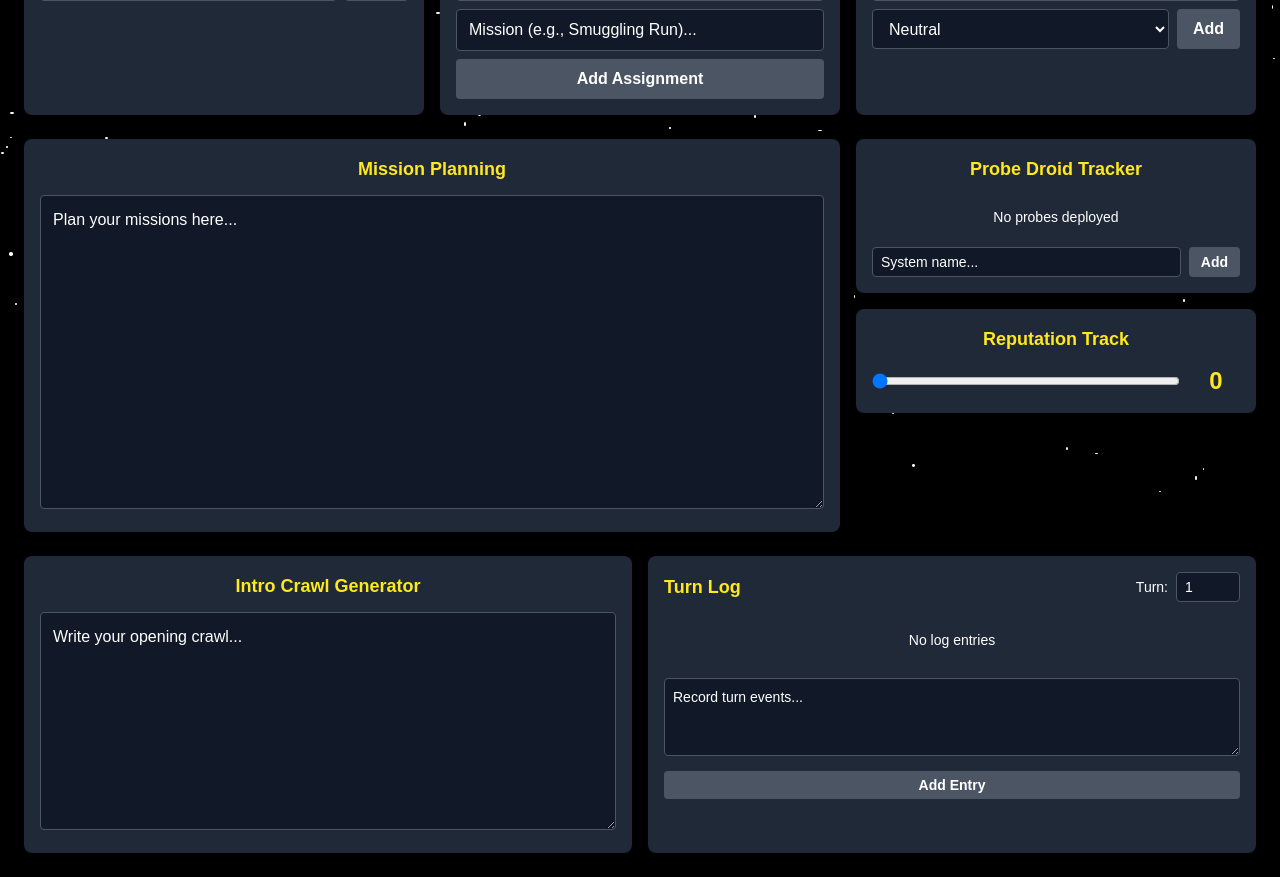
Test case: Star Wars Rebellion Dashboard › Turn Log Journal › adds a turn log entry
(page scrolled)
Step 1. Type "Rebels evacuated Echo Base" into the text box with placeholder "Record turn events..." → (952, 717), box 664,678 -> 1240,756
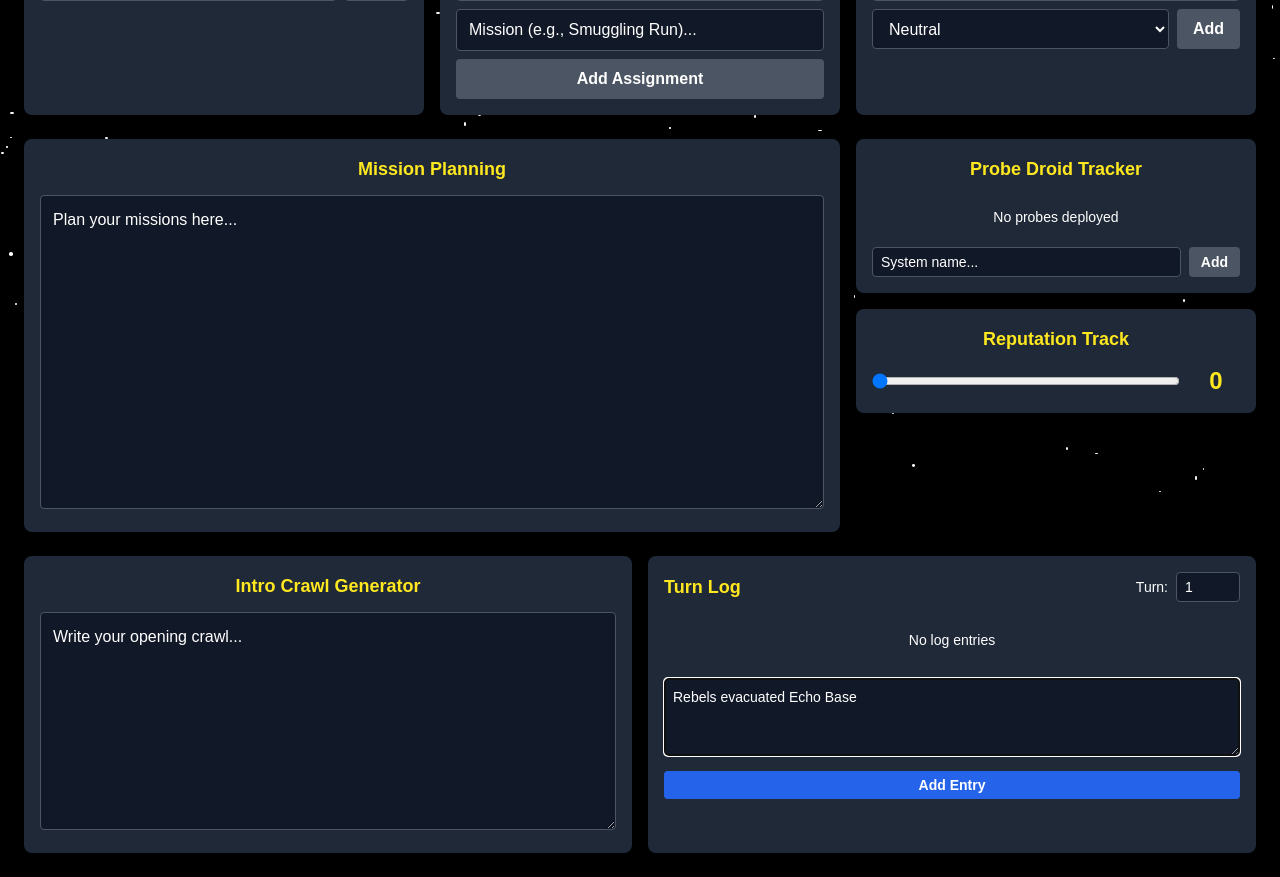
Step 2. Click the button "Add Entry" → (952, 785), box 664,771 -> 1240,799
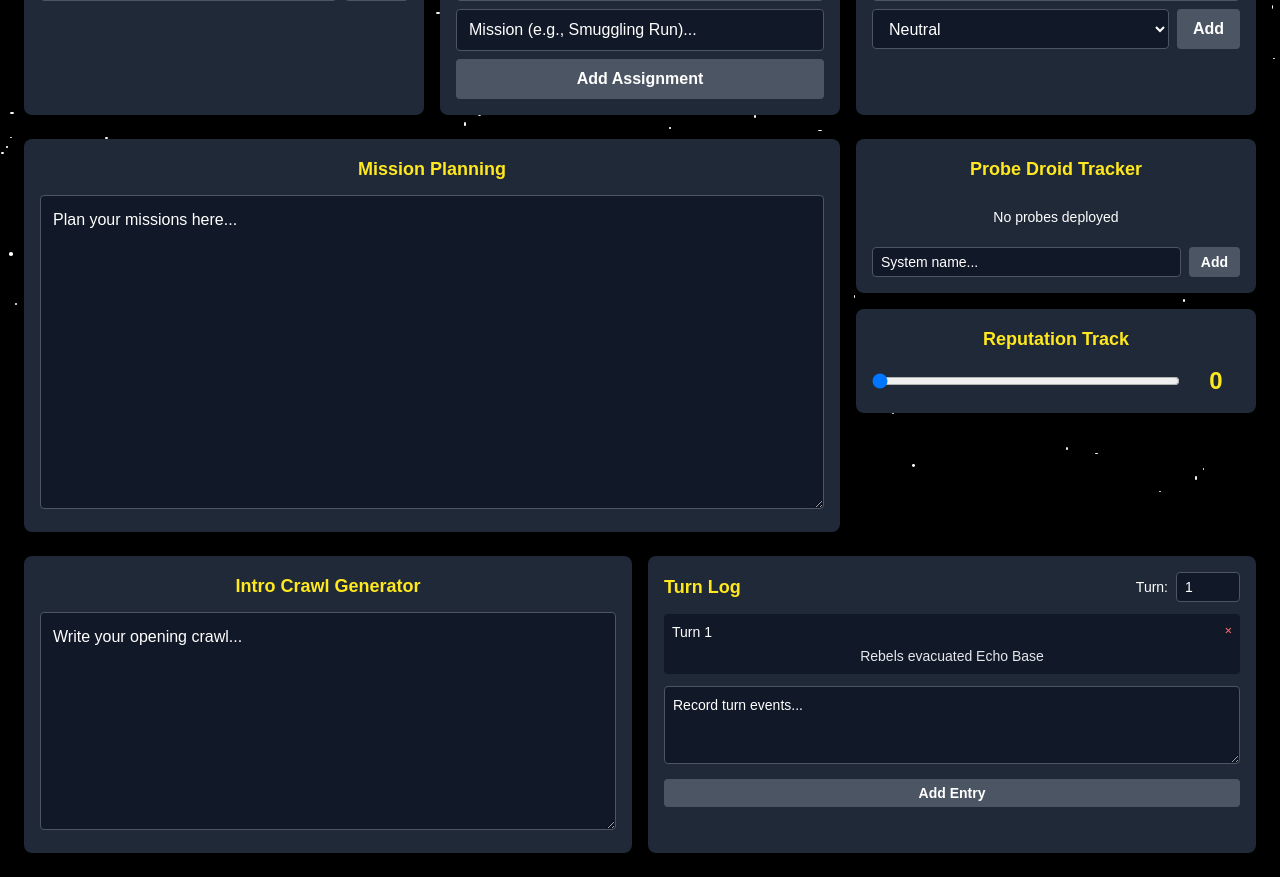
Expected: the text "Rebels evacuated Echo Base" is shown, 860,648 -> 1044,664
Expected: the text "Turn 1" is shown, 672,622 -> 712,642
